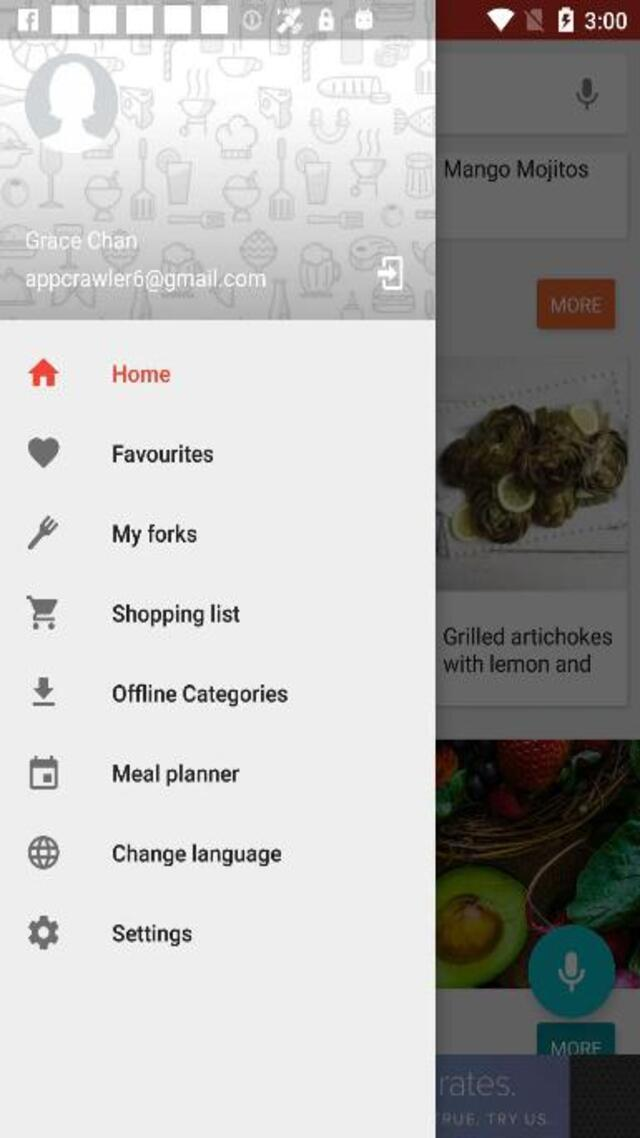Icon: (24, 52, 119, 154), (26, 594, 58, 630), (27, 514, 59, 550), (26, 437, 59, 470), (27, 914, 59, 948), (27, 835, 59, 868), (28, 754, 58, 788), (27, 356, 59, 386), (377, 255, 404, 289), (30, 677, 56, 706)
Image: (1, 40, 435, 319)
Text: (24, 266, 265, 292), (112, 682, 287, 707), (113, 844, 283, 867), (111, 604, 241, 627), (113, 762, 239, 785), (23, 230, 136, 250), (112, 522, 197, 548), (112, 444, 214, 464), (113, 924, 193, 947), (112, 364, 170, 382)
